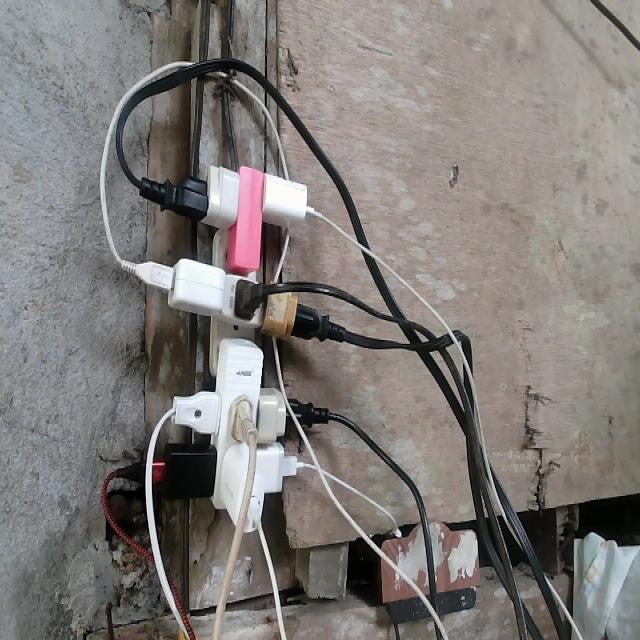-: (132, 161, 345, 532)
